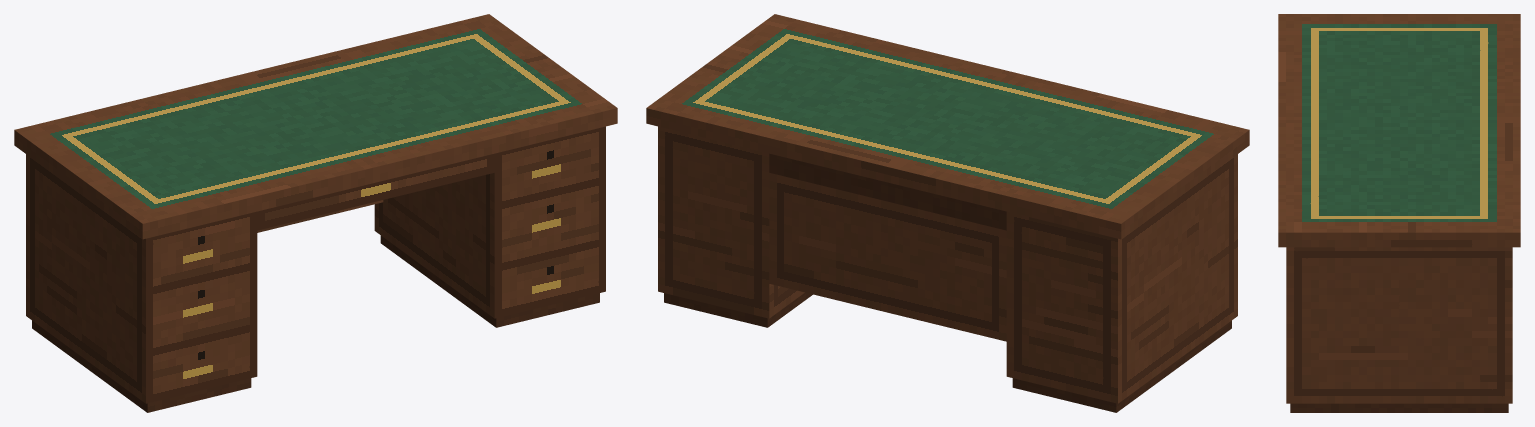
File: desk.glb
The picture shows the model from 3 angles, left to right: view 1: azimuth 30°, elevation 25°; view 2: azimuth 150°, elevation 25°; view 3: azimuth 270°, elevation 25°; orthographic projection. The views are drawn at different scales.
Visible parts, largest first — view 1: desk; view 2: desk; view 3: desk.
Boxes of the visible parts, <box> form: desk: <box>14,14,617,412</box>; desk: <box>646,14,1249,412</box>; desk: <box>1278,14,1520,412</box>.
Size of the model in its own units: 2 by 0.7906 by 0.9375.
1 material, 1 textured.
